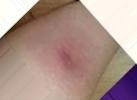Spider: (42, 42, 86, 74)
